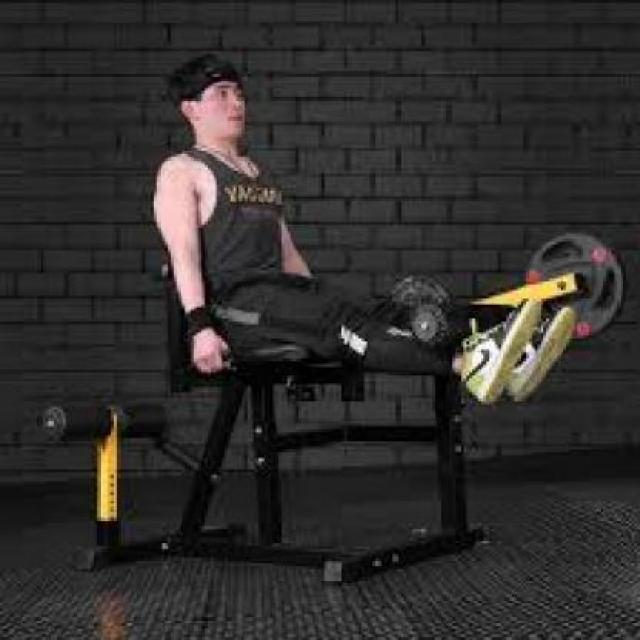leg extension: (28, 52, 629, 600)
